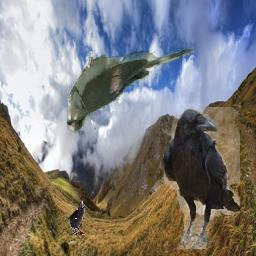Crow: (164, 107, 240, 249)
Cuckoo: (68, 45, 195, 133)
Woodpecker: (65, 199, 85, 235)
